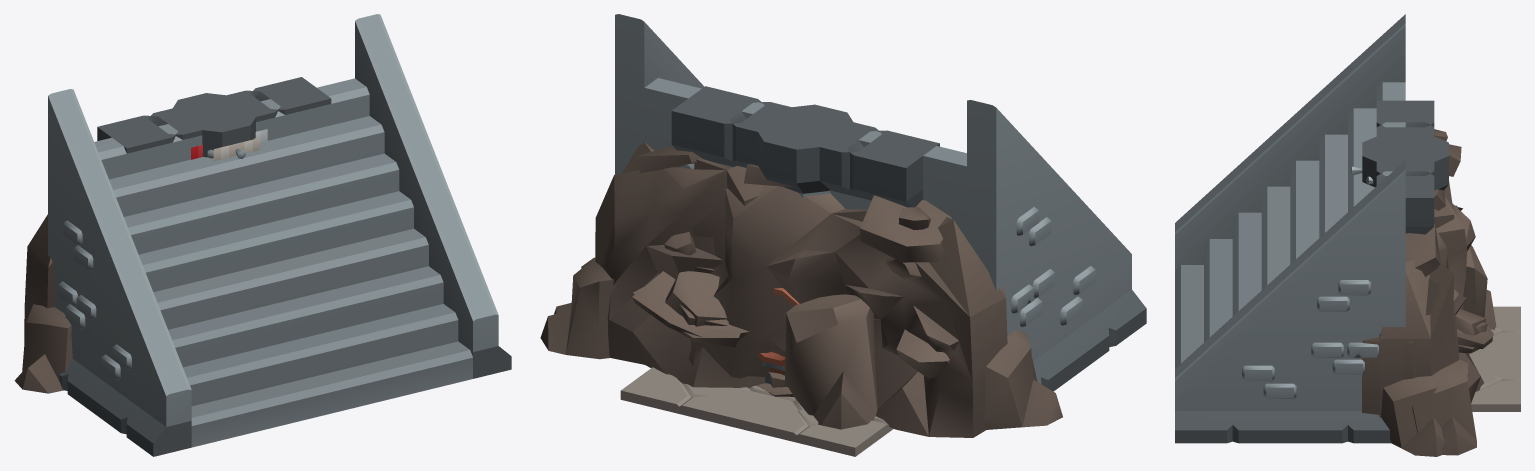
Rendered from ruins.glb.
3 renders of one model, left to right at view 1: azimuth 30°, elevation 25°; view 2: azimuth 150°, elevation 25°; view 3: azimuth 270°, elevation 25°, orthographic. The views are drawn at different scales.
Visible parts, largest first — view 1: stairs_wide, wall_arched, rubble_large, pillar, pillar_decorated; view 2: rubble_large, stairs_wide, rubble_half, wall_arched, floor_tile_large_rocks, wall_broken, floor_tile_large, pillar, wall_half, pillar_decorated; view 3: stairs_wide, rubble_half, rubble_large, wall_arched, floor_tile_large_rocks, pillar_decorated, pillar, floor_tile_large, wall_broken.
Boxes of the visible parts, left/top/right/bottom form: stairs_wide: left=48, top=14, right=511, bottom=456; wall_arched: left=97, top=77, right=331, bottom=153; rubble_large: left=14, top=214, right=72, bottom=393; pillar: left=173, top=93, right=255, bottom=157; pillar_decorated: left=173, top=105, right=259, bottom=161; rubble_large: left=554, top=164, right=1062, bottom=437; stairs_wide: left=615, top=14, right=1146, bottom=391; rubble_half: left=540, top=142, right=765, bottom=388; wall_arched: left=672, top=86, right=939, bottom=207; floor_tile_large_rocks: left=620, top=367, right=892, bottom=456; wall_broken: left=724, top=102, right=938, bottom=209; floor_tile_large: left=620, top=385, right=892, bottom=456; pillar: left=752, top=104, right=853, bottom=383; wall_half: left=671, top=111, right=792, bottom=167; pillar_decorated: left=760, top=105, right=850, bottom=198; stairs_wide: left=1175, top=14, right=1405, bottom=443; rubble_half: left=1379, top=206, right=1492, bottom=455; rubble_large: left=1362, top=129, right=1496, bottom=456; wall_arched: left=1376, top=100, right=1434, bottom=234; floor_tile_large_rocks: left=1471, top=306, right=1520, bottom=407; pillar_decorated: left=1350, top=136, right=1448, bottom=190; pillar: left=1362, top=143, right=1448, bottom=190; floor_tile_large: left=1469, top=332, right=1520, bottom=411; wall_broken: left=1376, top=152, right=1434, bottom=233.
Size of the model in its own units: 8.13 by 5.95 by 6.
2 materials, 2 textured.
